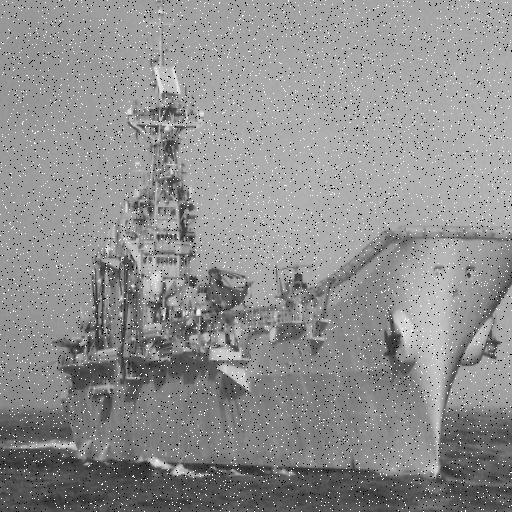Portanaves: (53, 1, 512, 487)
